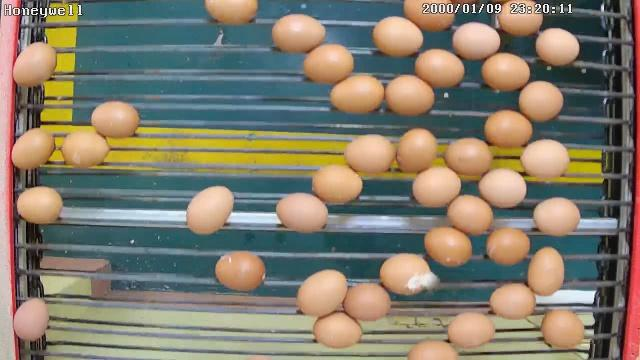egg: (184, 184, 236, 236), (296, 268, 346, 320), (328, 71, 386, 115), (271, 12, 327, 56), (378, 251, 431, 297), (310, 163, 364, 206), (274, 192, 329, 234), (12, 41, 58, 91), (385, 73, 436, 118), (411, 165, 462, 210), (213, 250, 266, 293), (344, 133, 395, 177), (518, 137, 570, 180), (311, 308, 364, 350), (343, 280, 393, 324), (447, 192, 494, 238), (540, 304, 586, 351), (60, 126, 110, 169), (484, 108, 534, 151), (302, 43, 354, 84), (90, 98, 140, 140), (414, 47, 464, 89), (443, 136, 493, 178), (10, 126, 55, 172), (394, 127, 436, 176), (451, 21, 501, 62), (373, 16, 424, 56), (518, 78, 564, 122), (482, 51, 530, 93), (478, 166, 526, 208), (533, 196, 581, 238), (16, 185, 65, 226), (527, 246, 566, 297), (424, 226, 472, 266), (448, 308, 496, 348), (534, 26, 580, 66), (486, 226, 531, 266), (489, 282, 536, 320), (13, 296, 50, 342)
